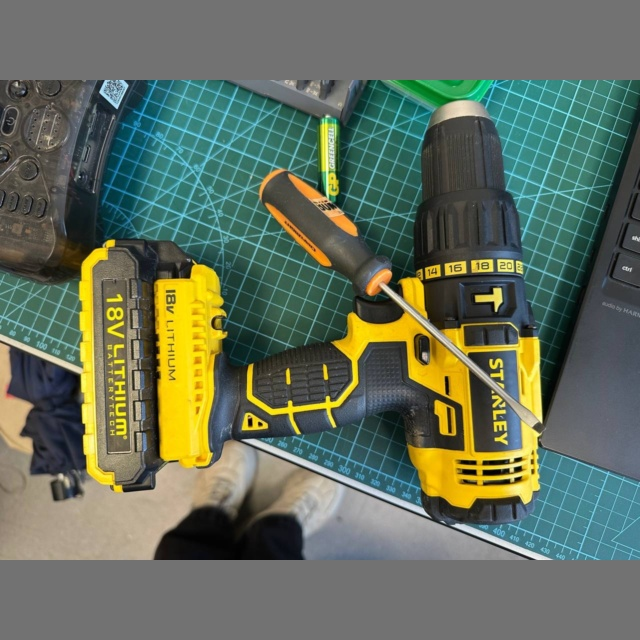drill: (80, 101, 542, 524)
screwdriver: (260, 170, 545, 434)
